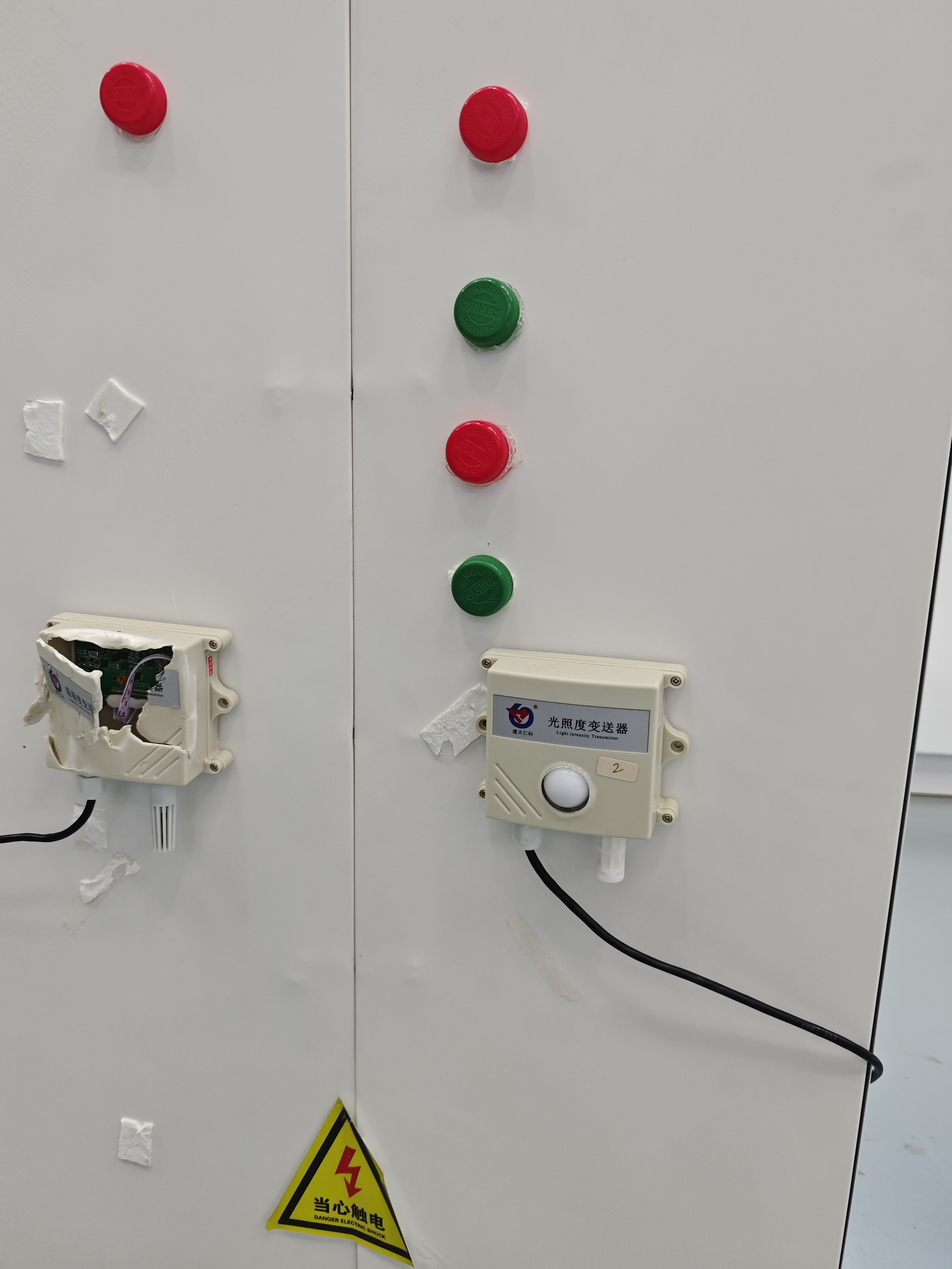red_warning: (85, 37, 223, 171), (445, 65, 567, 190), (430, 383, 541, 497)
sensor_damage: (6, 583, 267, 860)
